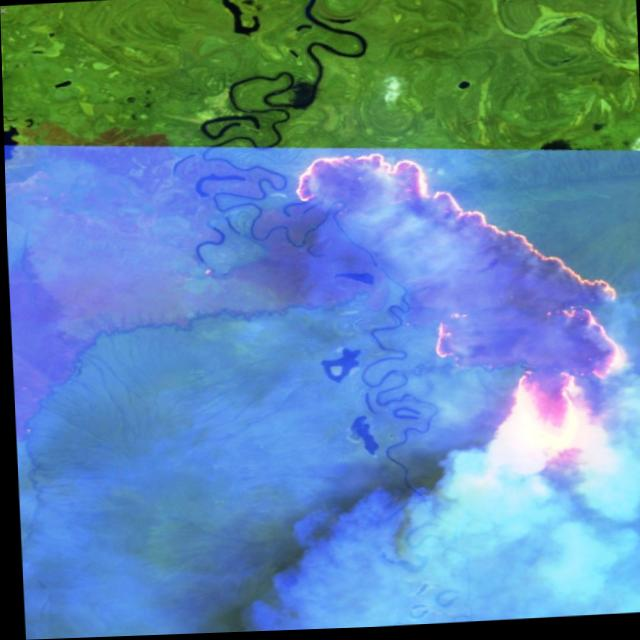fire: (261, 132, 631, 501)
